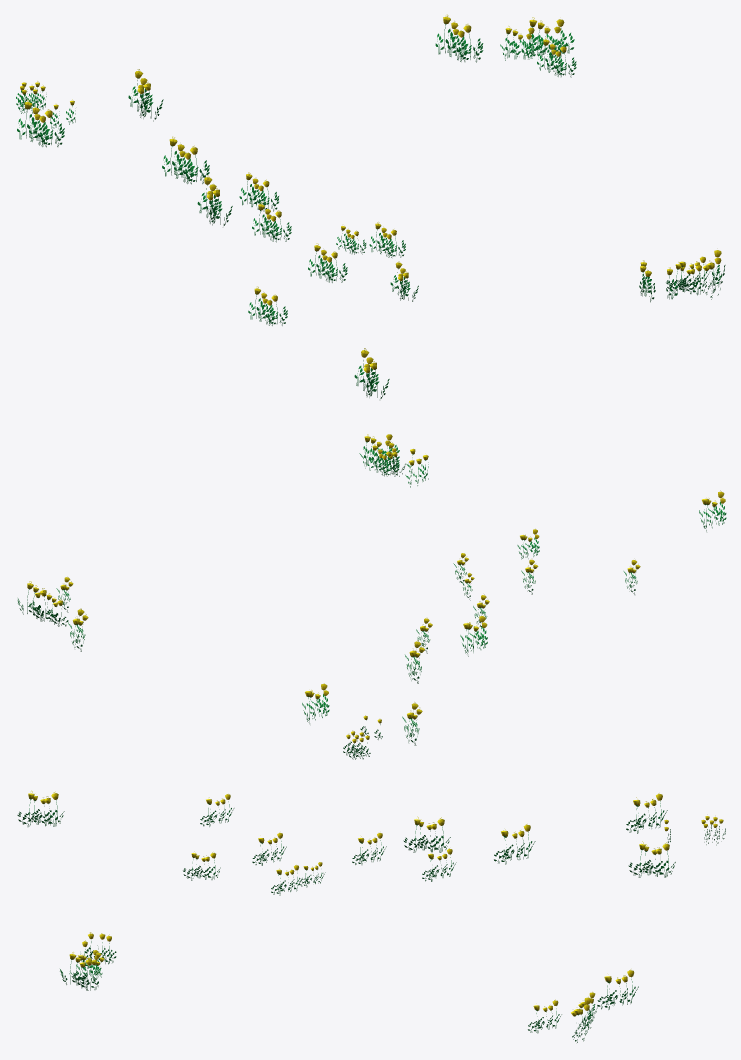
The model's file is flowerC.fbx.
3 renders of one model, top to bottom at view 1: azimuth 30°, elevation 25°; view 2: azimuth 150°, elevation 25°; view 3: azimuth 270°, elevation 25°, orthographic. The views are drawn at different scales.
Parts seen in each view (by area): view 1: flowerC; view 2: flowerC; view 3: flowerC.
Part boxes in pixels (x1=…): flowerC: x1=16, y1=14, x2=725, y2=398; flowerC: x1=17, y1=434, x2=726, y2=759; flowerC: x1=17, y1=790, x2=725, y2=1042.
Size of the model in its own units: 951 by 77.28 by 1253.
Materials: 1 (1 with a texture image).
